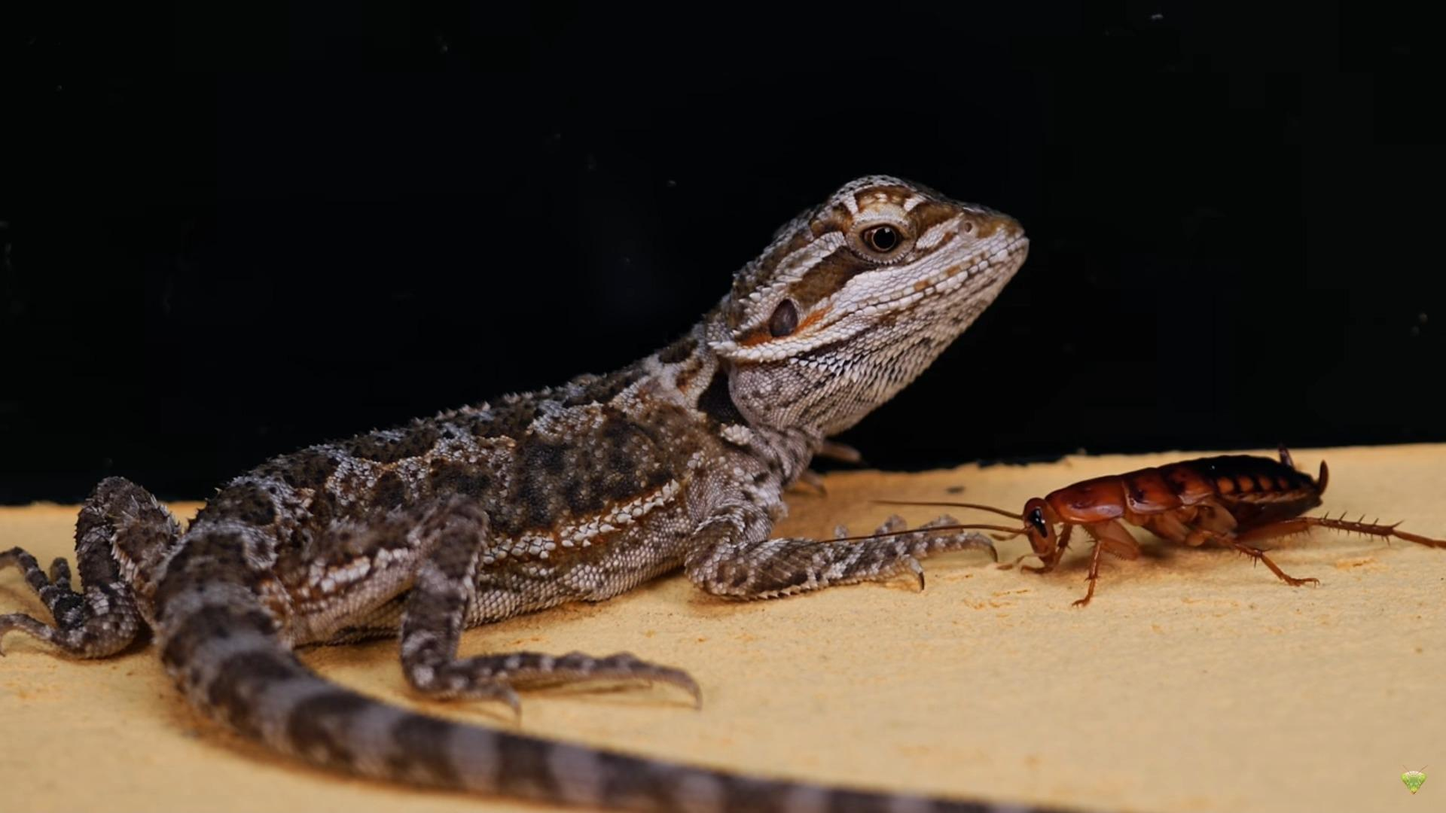cockroach: (1011, 451, 1424, 610)
lizard: (32, 162, 1020, 734)
